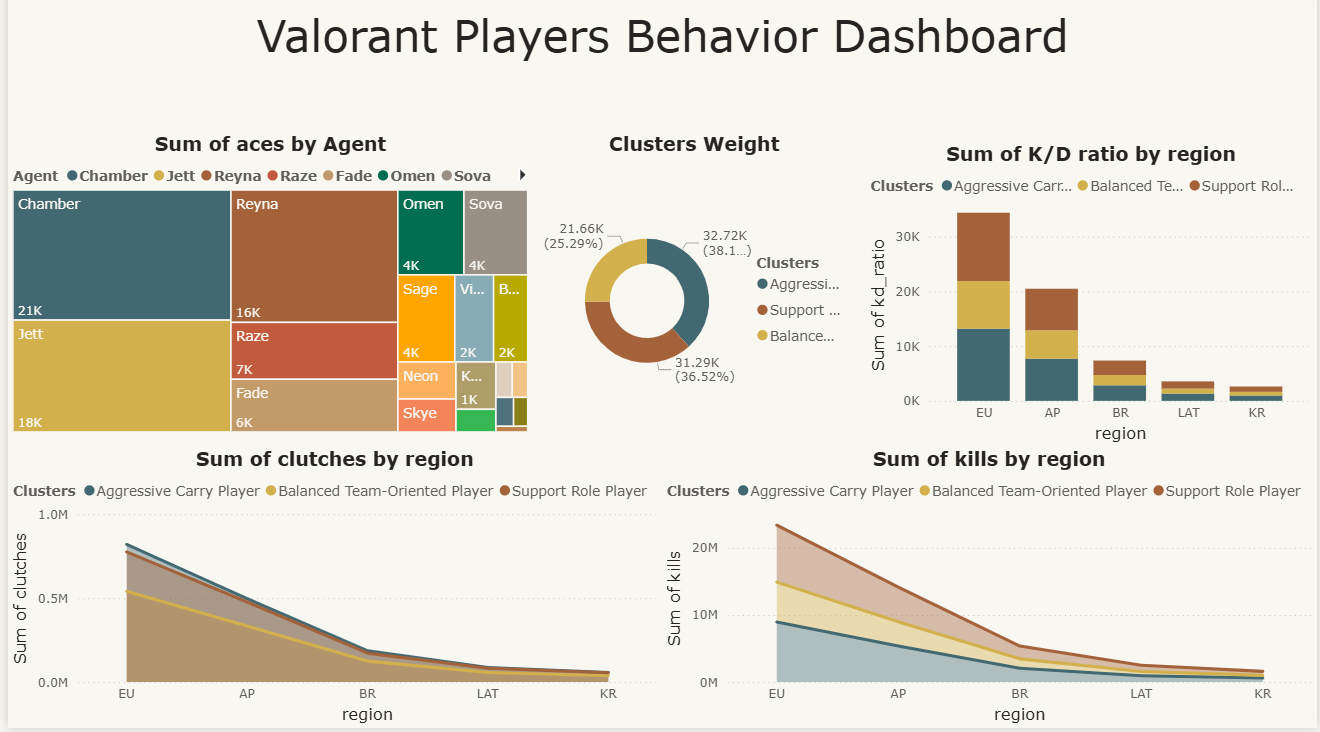

Layout of this report page (visuals, bound fields, positions):
{"tool":"powerbi","page":{"name":"Page 1","canvas":[1280,720],"ordinal":0},"visuals":[{"type":"columnChart","title":"Sum of K/D ratio by region ","fields":{"Category":["Valorant_StoryTelling.region"],"Y":["Sum(Valorant_StoryTelling.kd_ratio)"],"Series":["Valorant_StoryTelling.Clusters"]},"box":[838.9,146.7,441.4,298.4],"z":0},{"type":"stackedAreaChart","title":"Sum of kills by region","fields":{"Y":["Sum(Valorant_StoryTelling.kills)"],"Category":["Valorant_StoryTelling.region"],"Series":["Valorant_StoryTelling.Clusters"]},"box":[639.5,445.1,640.8,275.1],"z":1},{"type":"areaChart","title":"Sum of clutches by region","fields":{"Category":["Valorant_StoryTelling.region"],"Y":["Sum(Valorant_StoryTelling.clutches)"],"Series":["Valorant_StoryTelling.Clusters"]},"box":[0,445.1,639.5,275.1],"z":2},{"type":"treemap","title":"Sum of aces by Agent","fields":{"Group":["Valorant_StoryTelling.agent_1"],"Values":["Sum(Valorant_StoryTelling.aces)"]},"box":[0,137,513.6,298.4],"z":3},{"type":"donutChart","title":"Clusters Weight","fields":{"Category":["Valorant_StoryTelling.Clusters"],"Y":["CountNonNull(Valorant_StoryTelling.name)"]},"box":[513.6,137,315.5,308.2],"z":4},{"type":"textbox","box":[0,11,1280.3,85.6],"z":5}]}

Visuals, with their boxes in screenshot pixels (x1, y1, x2, y2), scaled from the page's 1280x720 canvas onto the 1320x732 screenshot:
"Sum of K/D ratio by region " columnChart: 865/149/1319/453
"Sum of kills by region" stackedAreaChart: 659/453/1319/731
"Sum of clutches by region" areaChart: 0/453/659/731
"Sum of aces by Agent" treemap: 0/139/530/443
"Clusters Weight" donutChart: 530/139/855/453
textbox: 0/11/1319/98
